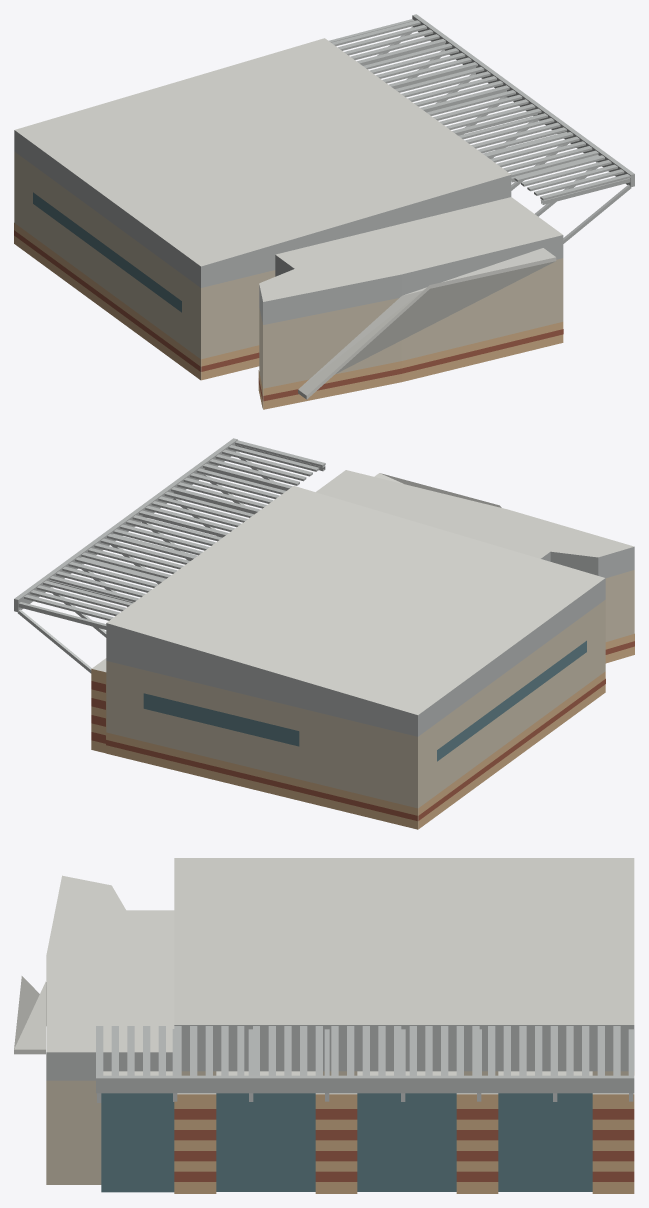
The model's file is phx-convention-center-west.glb.
3 renders of one model, top to bottom at view 1: azimuth 30°, elevation 25°; view 2: azimuth 150°, elevation 25°; view 3: azimuth 270°, elevation 25°, orthographic. The views are drawn at different scales.
Visible parts, largest first — view 1: Phoenix Convention Center West Building; view 2: Phoenix Convention Center West Building; view 3: Phoenix Convention Center West Building.
Part boxes in pixels (x1=…): Phoenix Convention Center West Building: x1=14, y1=14, x2=634, y2=409; Phoenix Convention Center West Building: x1=14, y1=438, x2=634, y2=829; Phoenix Convention Center West Building: x1=14, y1=858, x2=634, y2=1193.
Size of the model in its own units: 110 by 34.2 by 119.
